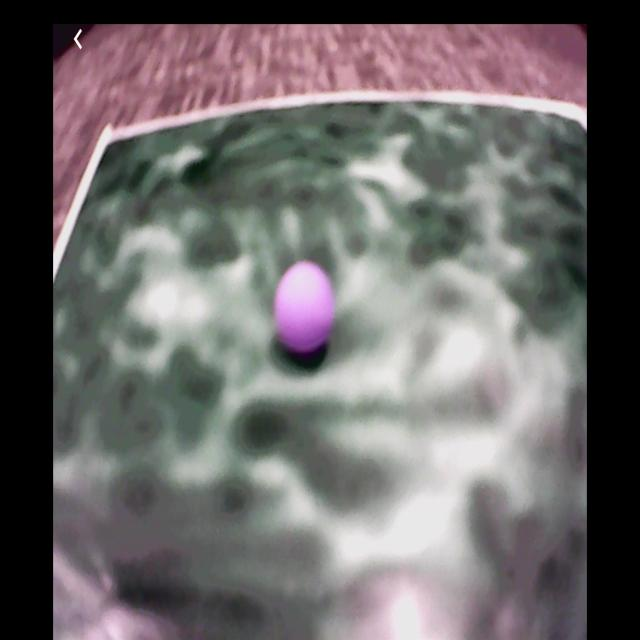ball: (274, 261, 335, 356)
